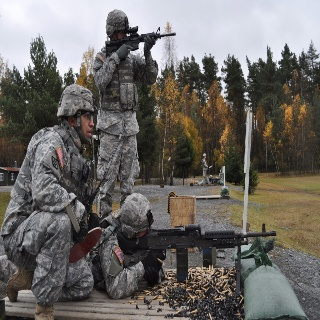rifle: (109, 222, 277, 284), (105, 25, 177, 53)
